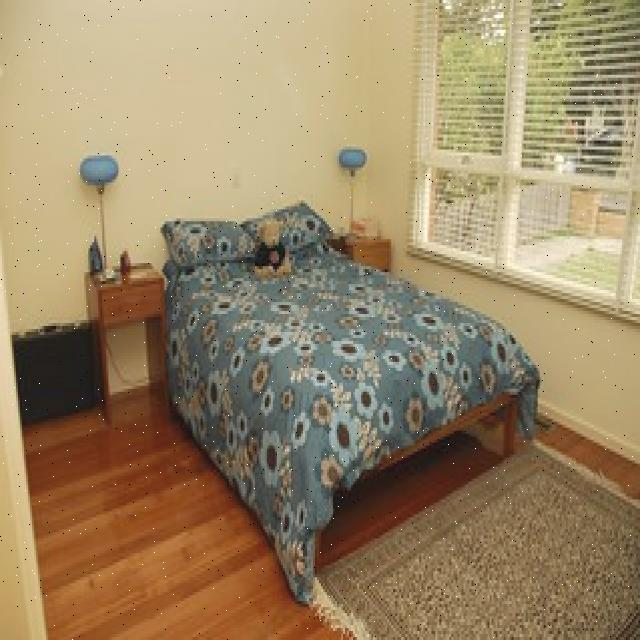bed: (162, 199, 534, 552)
